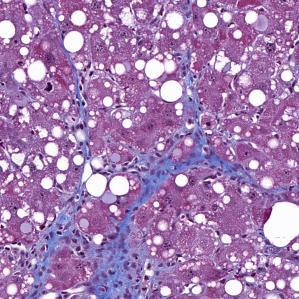fibrosis: (91, 235, 178, 299), (141, 143, 222, 189)
